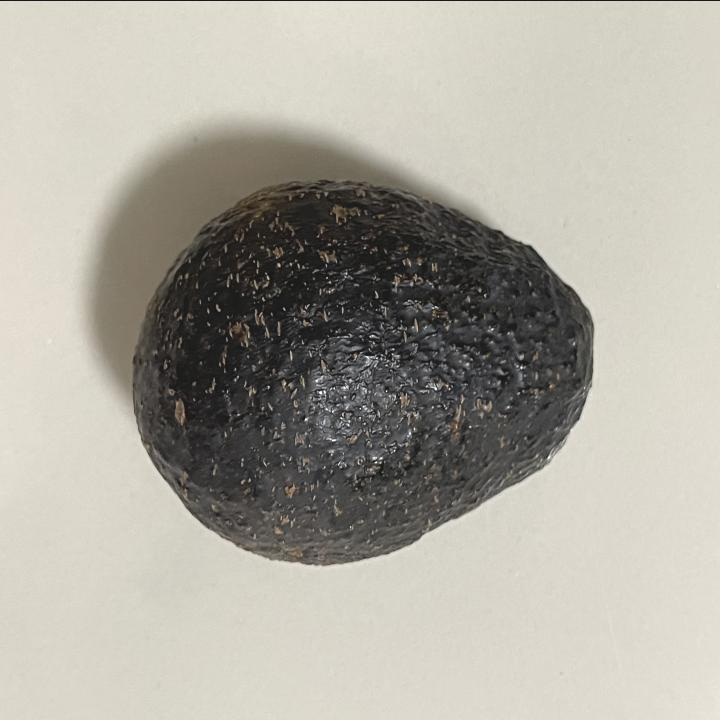Level2: (127, 166, 602, 574)
